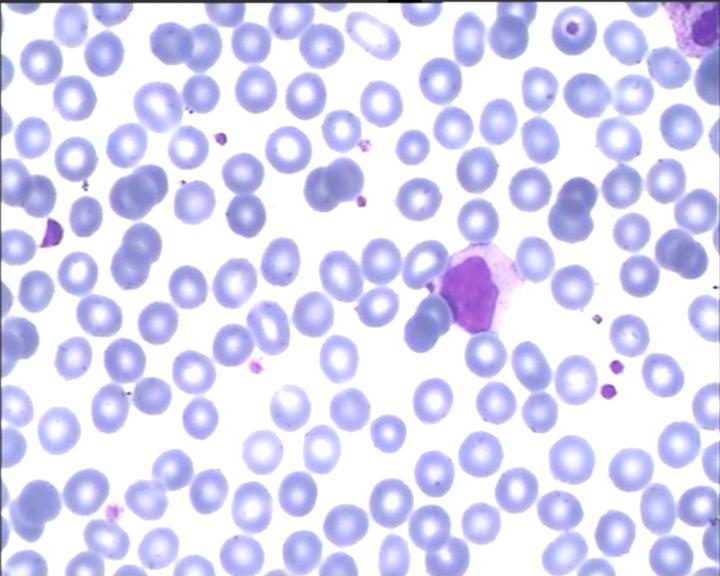mono: (424, 233, 522, 338)
